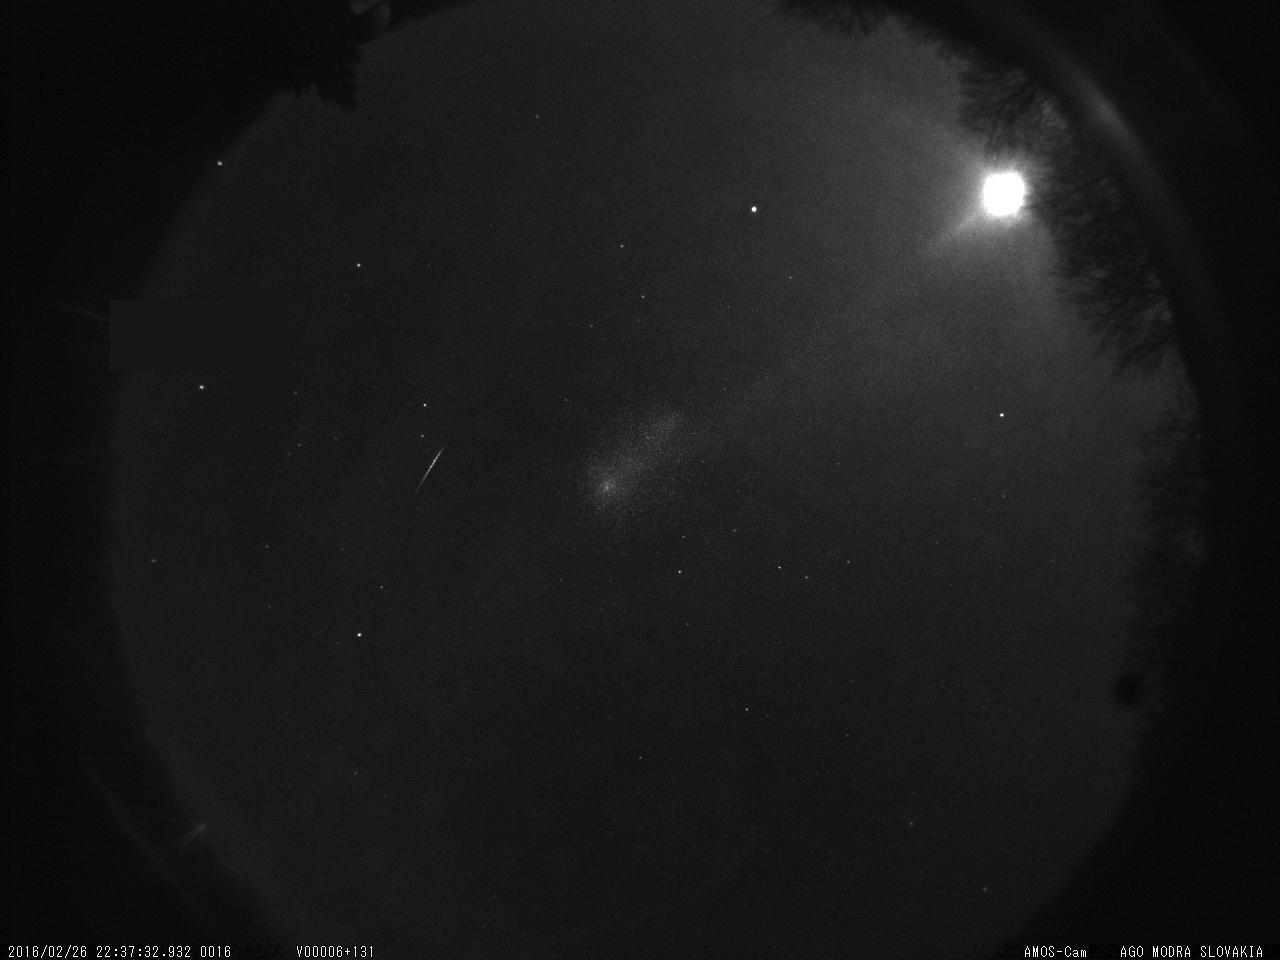meteor: (406, 435, 465, 493)
